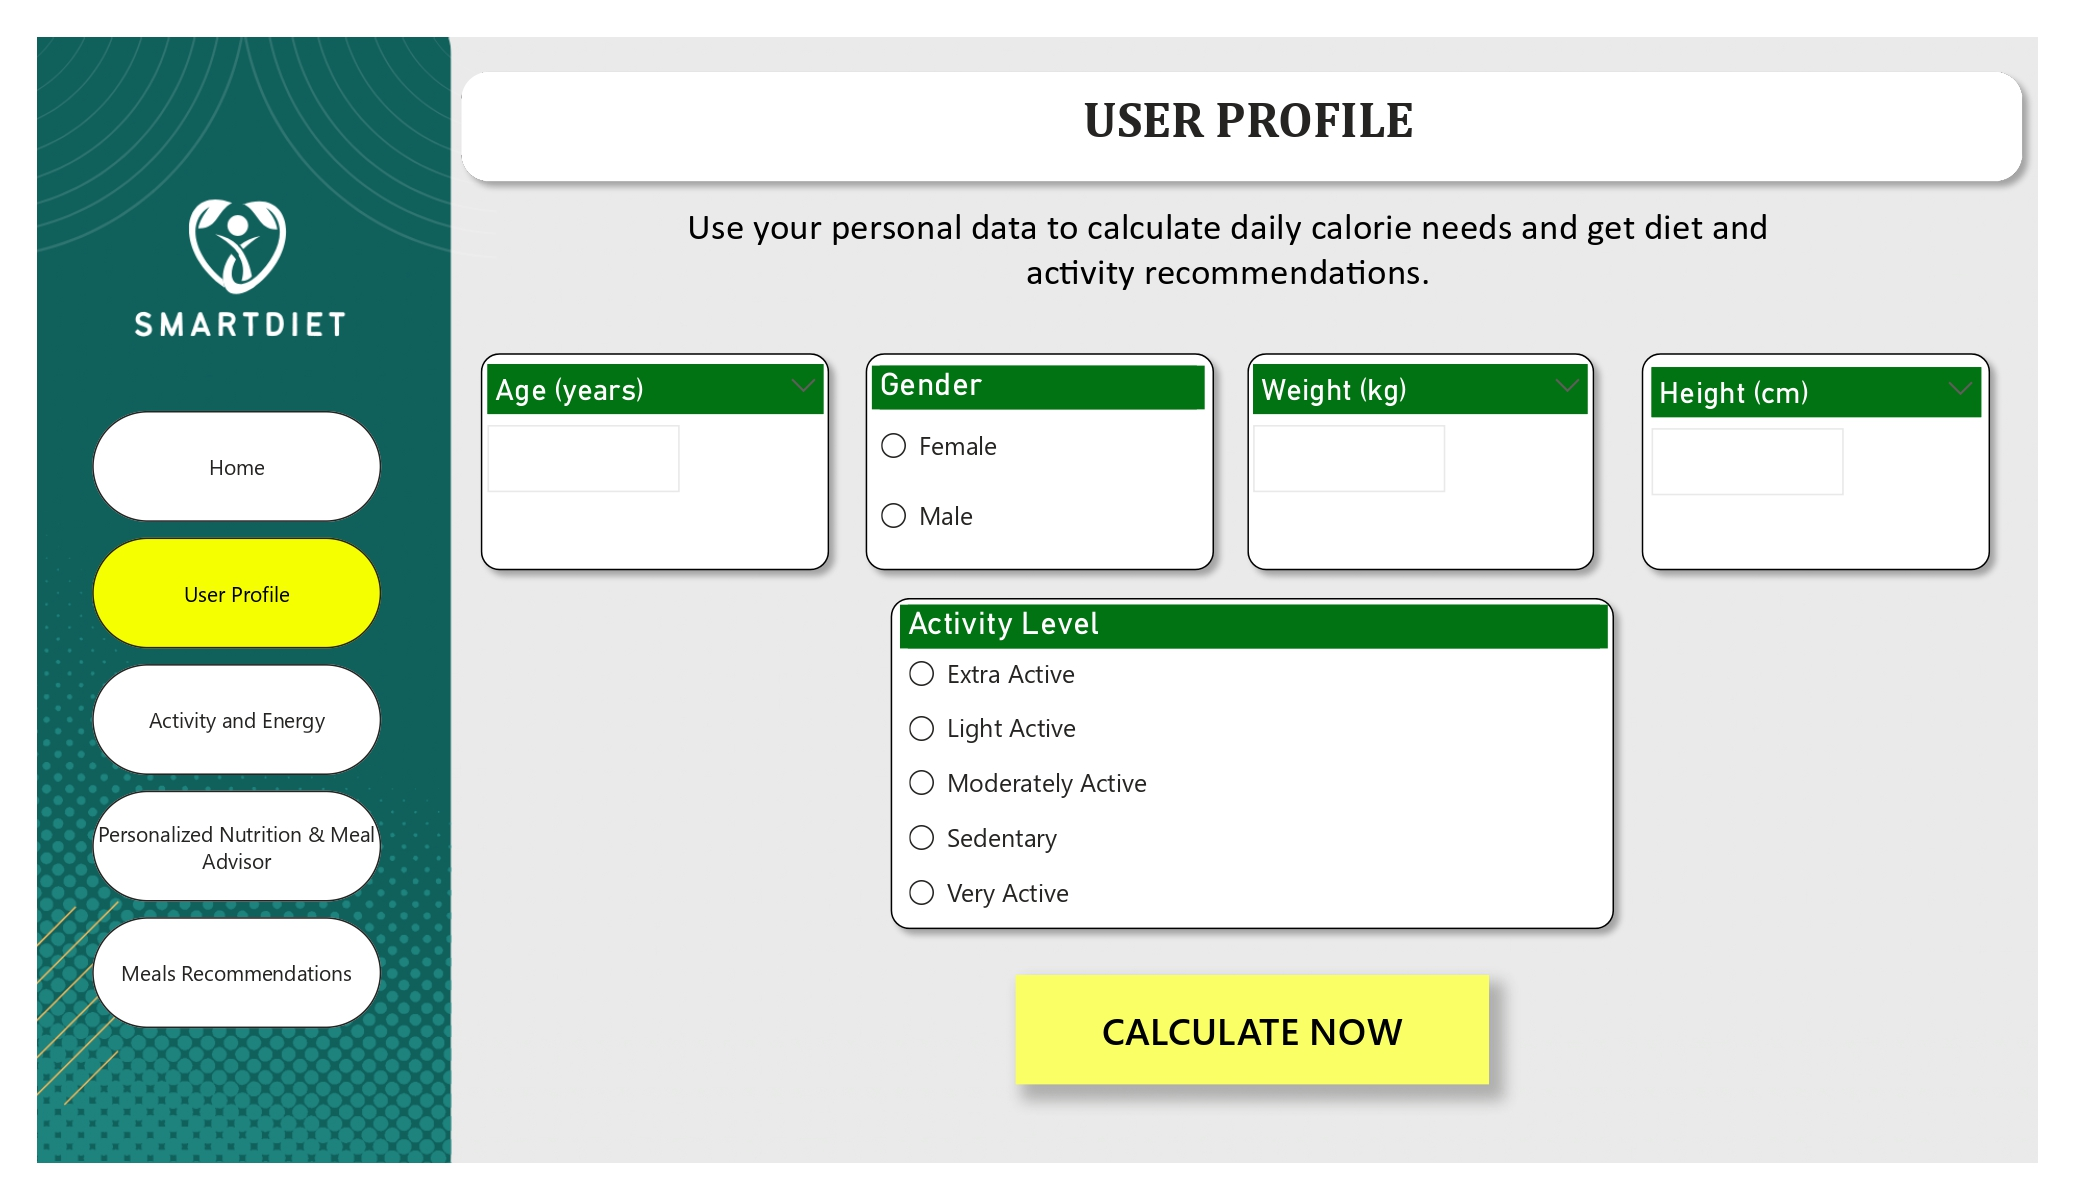

This screenshot's page, from the dashboard's own definition file:
{"tool":"powerbi","page":{"name":"User Profile","canvas":[1280,720],"ordinal":1},"visuals":[{"type":"slicer","fields":{"Values":["Age (years).Age (years)"]},"box":[512.6,152.6,213.1,164.2],"z":0},{"type":"listSlicer","fields":{"Values":["Gender.Gender"]},"box":[273.6,152.6,213.1,164.2],"z":1000},{"type":"slicer","fields":{"Values":["Weight (kg).Weight (kg)"]},"box":[273.6,341.3,213.1,207.4],"z":2000},{"type":"slicer","fields":{"Values":["Height (cm).Height (cm)"]},"box":[756,152.6,213.1,164.2],"z":3000},{"type":"listSlicer","fields":{"Values":["Activity Level.Activity Level"]},"box":[499.7,341.3,456.5,207.4],"z":4000},{"type":"actionButton","box":[522.7,594.7,302.4,69.1],"z":5000},{"type":"textbox","box":[273.6,87.8,972,40.3],"z":6000},{"type":"shape","box":[239,0,1041.1,87.8],"z":7000},{"type":"textbox","box":[650.9,21.6,227.5,57.6],"z":8000},{"type":"shape","box":[987.8,139.7,269.3,551.5],"z":9000},{"type":"textbox","box":[1013.8,184.3,218.9,213.1],"z":10000},{"type":"textbox","box":[1013.8,416.2,218.9,224.6],"z":11000},{"type":"pageNavigator","box":[18.7,190.1,197.3,445],"z":12000}]}

Visuals, with their boxes on the page's 1280x720 design canvas (x1, y1, x2, y2). These are canvas units, not pixel positions in the 2075x1200 screenshot, which may show the page scaled, cropped or inside an application window:
slicer - Age (years).Age (years): {"left": 513, "top": 153, "right": 726, "bottom": 317}
listSlicer - Gender.Gender: {"left": 274, "top": 153, "right": 487, "bottom": 317}
slicer - Weight (kg).Weight (kg): {"left": 274, "top": 341, "right": 487, "bottom": 549}
slicer - Height (cm).Height (cm): {"left": 756, "top": 153, "right": 969, "bottom": 317}
listSlicer - Activity Level.Activity Level: {"left": 500, "top": 341, "right": 956, "bottom": 549}
actionButton: {"left": 523, "top": 595, "right": 825, "bottom": 664}
textbox: {"left": 274, "top": 88, "right": 1246, "bottom": 128}
shape: {"left": 239, "top": 0, "right": 1280, "bottom": 88}
textbox: {"left": 651, "top": 22, "right": 878, "bottom": 79}
shape: {"left": 988, "top": 140, "right": 1257, "bottom": 691}
textbox: {"left": 1014, "top": 184, "right": 1233, "bottom": 397}
textbox: {"left": 1014, "top": 416, "right": 1233, "bottom": 641}
pageNavigator: {"left": 19, "top": 190, "right": 216, "bottom": 635}
